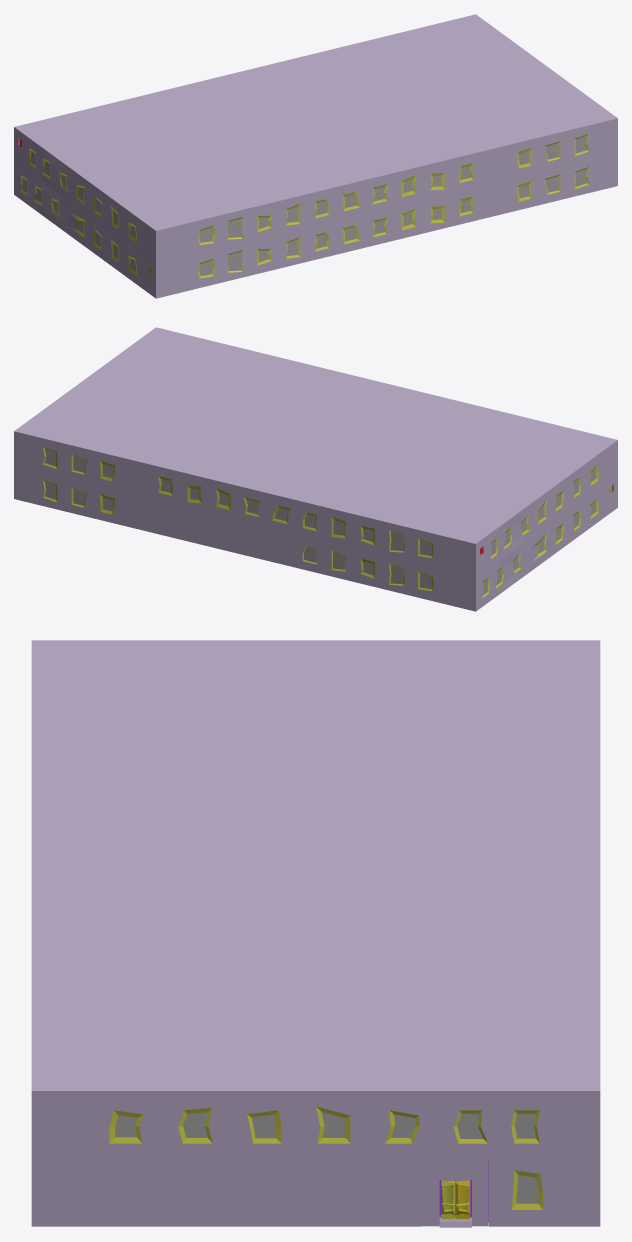
File: SM_SchoolBuilding_2.0.fbx
3 views of the same model, one above another, from view 1: azimuth 30°, elevation 25°; view 2: azimuth 150°, elevation 25°; view 3: azimuth 270°, elevation 25° (orthographic). The views are drawn at different scales.
Parts seen in each view (by area): view 1: SM_SchoolCeiling, SM_SchoolWallEastTop, SM_SchoolWallEastBottom, SM_SchoolWallSouthBottom, SM_SchoolWallSoutTop; view 2: SM_SchoolCeiling, SM_SchoolWallWestBottom, SM_SchoolWallWestTop, SM_SchoolWallSoutTop, SM_SchoolWallSouthBottom; view 3: SM_SchoolCeiling, SM_SchoolWallNorthTop, SM_SchoolWallNothBottom, SM_SchoolSmallWallNorthBottom, SM_OutsideDoorFrame.
Boxes of the visible parts, x1=… form: SM_SchoolCeiling: x1=14, y1=14, x2=617, y2=232; SM_SchoolWallEastTop: x1=154, y1=119, x2=617, y2=265; SM_SchoolWallEastBottom: x1=154, y1=153, x2=617, y2=298; SM_SchoolWallSouthBottom: x1=16, y1=163, x2=153, y2=296; SM_SchoolWallSoutTop: x1=16, y1=130, x2=153, y2=263; SM_SchoolCeiling: x1=14, y1=327, x2=617, y2=545; SM_SchoolWallWestBottom: x1=14, y1=466, x2=477, y2=611; SM_SchoolWallWestTop: x1=14, y1=432, x2=477, y2=578; SM_SchoolWallSoutTop: x1=478, y1=443, x2=615, y2=576; SM_SchoolWallSouthBottom: x1=478, y1=476, x2=615, y2=609; SM_SchoolCeiling: x1=31, y1=640, x2=600, y2=1093; SM_SchoolWallNorthTop: x1=40, y1=1093, x2=591, y2=1159; SM_SchoolWallNothBottom: x1=40, y1=1160, x2=421, y2=1226; SM_SchoolSmallWallNorthBottom: x1=489, y1=1160, x2=591, y2=1226; SM_OutsideDoorFrame: x1=421, y1=1160, x2=488, y2=1227.
Bounding box in the file's own units: 7301 × 1032 × 3880.
